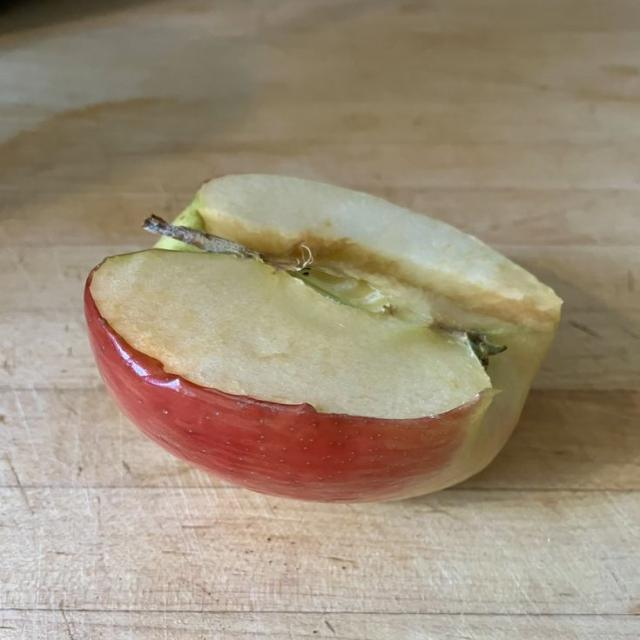apple: (86, 176, 559, 501)
